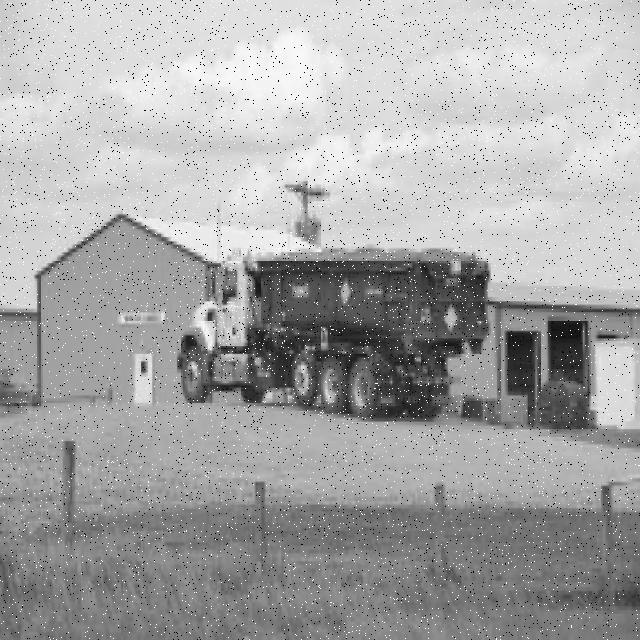Truck- Multi-Axle: (174, 249, 489, 419)
